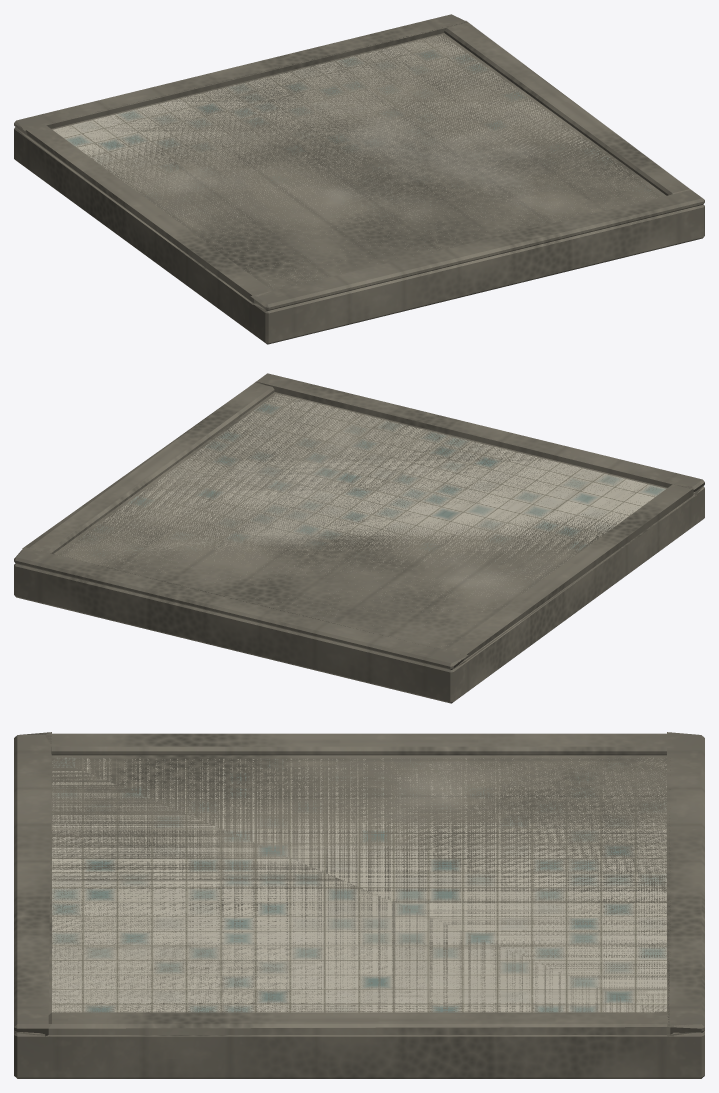
The model's file is WK_FLOOR_SLAB_A_01.glb.
3 renders of one model, top to bottom at view 1: azimuth 30°, elevation 25°; view 2: azimuth 150°, elevation 25°; view 3: azimuth 270°, elevation 25°, orthographic. The views are drawn at different scales.
Parts seen in each view (by area): view 1: WK_FLOOR_SLAB_A_01; view 2: WK_FLOOR_SLAB_A_01; view 3: WK_FLOOR_SLAB_A_01.
Boxes of the visible parts, x1,y1,x2,y2 form: WK_FLOOR_SLAB_A_01: (14, 14, 704, 344); WK_FLOOR_SLAB_A_01: (14, 373, 704, 703); WK_FLOOR_SLAB_A_01: (14, 732, 704, 1078).
Size of the model in its own units: 4.04 by 0.35 by 4.
Materials: 2 (2 with a texture image).
